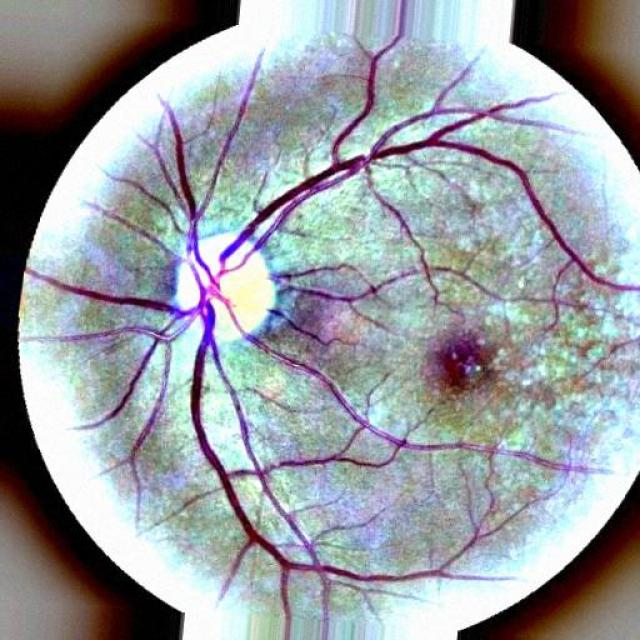Macula: (420, 331, 510, 403)
Nerves: (182, 298, 384, 606), (221, 297, 558, 466), (229, 126, 514, 265)
Optic Disk: (160, 228, 279, 348)
